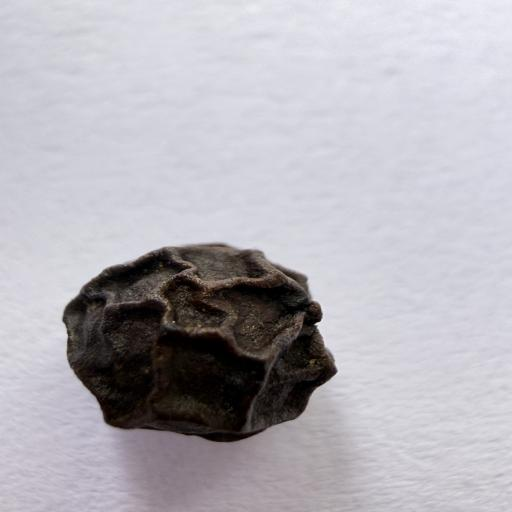Black_pepper: (12, 240, 371, 450)
